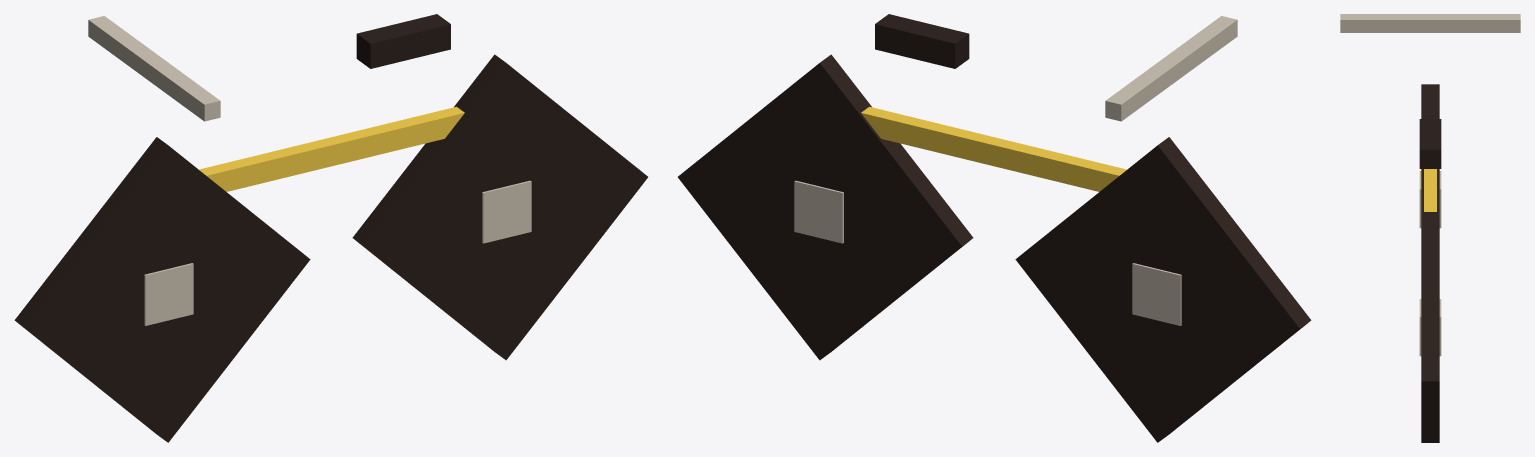
Rendered from bike_garcias.glb.
3 views of the same model, side by side, from view 1: azimuth 30°, elevation 25°; view 2: azimuth 150°, elevation 25°; view 3: azimuth 270°, elevation 25° (orthographic). The views are drawn at different scales.
Parts seen in each view (by area): view 1: Box1, Box3, Box5, Box8, Box7, Box2, Box4; view 2: Box1, Box3, Box5, Box8, Box7, Box2, Box4; view 3: Box3, Box8, Box7, Box1, Box5, Box2, Box4.
Boxes of the visible parts, <box> form: Box1: <box>14,137,310,442</box>; Box3: <box>352,54,647,360</box>; Box5: <box>199,106,464,191</box>; Box8: <box>88,16,220,121</box>; Box7: <box>356,14,450,68</box>; Box2: <box>144,263,193,325</box>; Box4: <box>482,180,531,243</box>; Box1: <box>1015,137,1311,442</box>; Box3: <box>678,54,973,360</box>; Box5: <box>861,106,1126,191</box>; Box8: <box>1105,16,1237,121</box>; Box7: <box>875,14,969,68</box>; Box2: <box>1132,263,1181,325</box>; Box4: <box>794,180,843,243</box>; Box3: <box>1421,212,1439,442</box>; Box8: <box>1340,14,1520,32</box>; Box7: <box>1419,119,1441,168</box>; Box1: <box>1421,84,1439,211</box>; Box5: <box>1424,169,1436,211</box>; Box2: <box>1419,171,1441,228</box>; Box4: <box>1419,299,1441,356</box>.
Size of the model in its own units: 1.55 by 0.9036 by 0.5.
